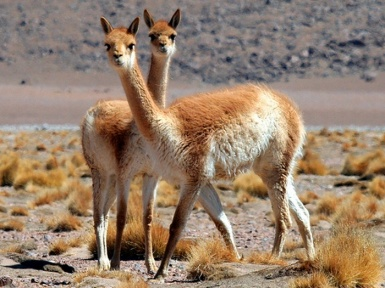eye: (104, 40, 112, 54), (128, 41, 138, 52), (151, 31, 158, 43), (171, 29, 174, 43)
mouth: (111, 58, 135, 68), (157, 49, 177, 55)
